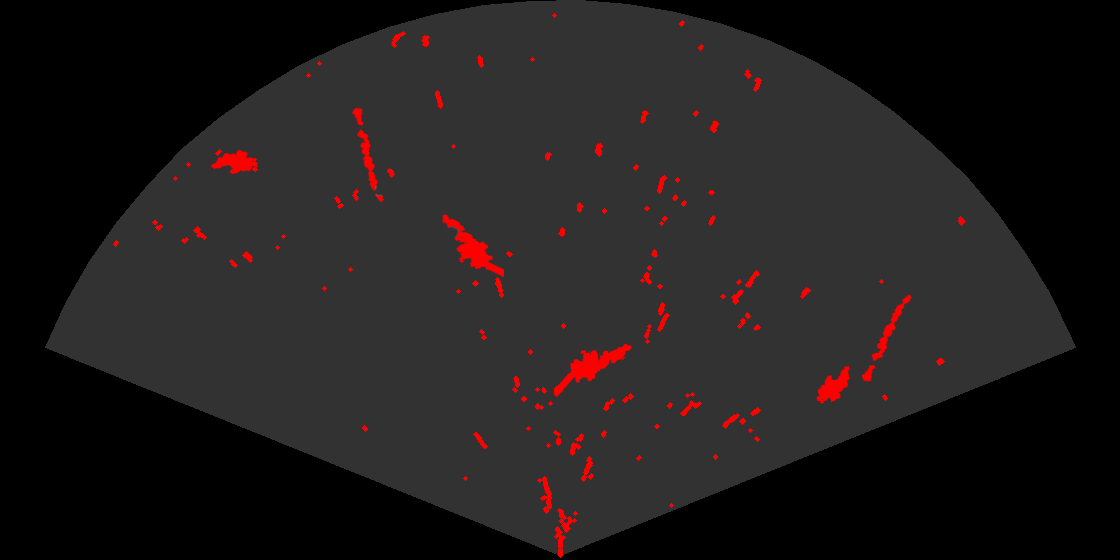AUV: (815, 364, 851, 405), (209, 148, 260, 176)
chain: (860, 293, 913, 384), (350, 105, 385, 204)
frogman: (557, 342, 633, 398), (440, 213, 504, 279)
